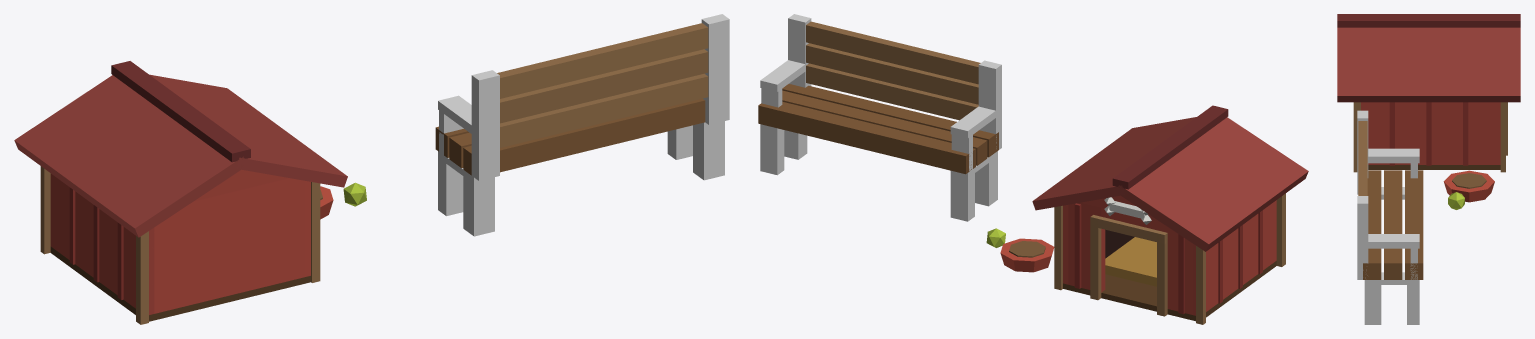
The model's file is Decor_LittleHouse_DoghouseBench.fbx.
3 views of the same model, side by side, from view 1: azimuth 30°, elevation 25°; view 2: azimuth 150°, elevation 25°; view 3: azimuth 270°, elevation 25° (orthographic). The views are drawn at different scales.
Visible parts, largest first — view 1: DoghouseBench_Body, DoghouseBench_Roof, DoghouseBench_Iron, DoghouseBench_Trim; view 2: DoghouseBench_Body, DoghouseBench_Roof, DoghouseBench_Iron, DoghouseBench_Trim; view 3: DoghouseBench_Roof, DoghouseBench_Body, DoghouseBench_Iron, DoghouseBench_Trim.
Part boxes in pixels (box(x1,y1,x2,y2)): DoghouseBench_Body: box(50, 23, 708, 321); DoghouseBench_Roof: box(14, 61, 347, 237); DoghouseBench_Iron: box(438, 14, 729, 236); DoghouseBench_Trim: box(40, 166, 320, 324); DoghouseBench_Body: box(758, 21, 1276, 321); DoghouseBench_Roof: box(1032, 105, 1308, 251); DoghouseBench_Iron: box(760, 14, 1001, 221); DoghouseBench_Trim: box(1054, 193, 1285, 324); DoghouseBench_Roof: box(1337, 14, 1520, 102); DoghouseBench_Body: box(1358, 102, 1500, 279); DoghouseBench_Iron: box(1357, 110, 1419, 324); DoghouseBench_Trim: box(1353, 102, 1507, 172).
Bounding box in the file's own units: 29.1 × 7.3 × 10.
